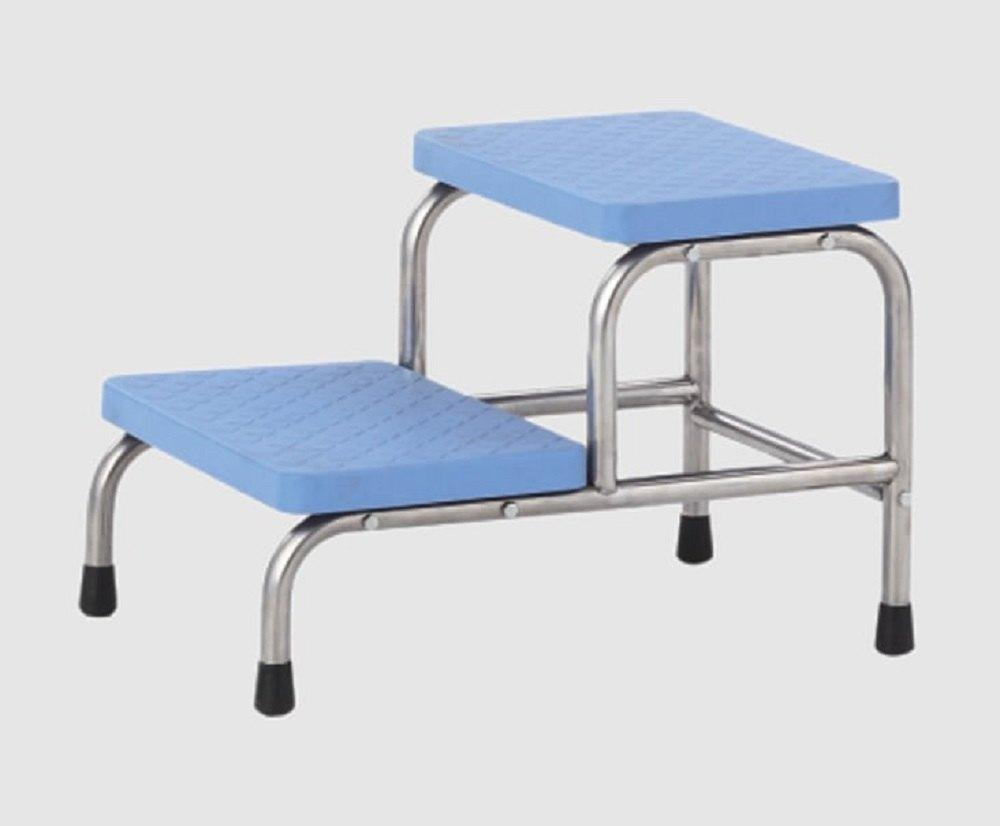stool: (76, 81, 929, 727)
